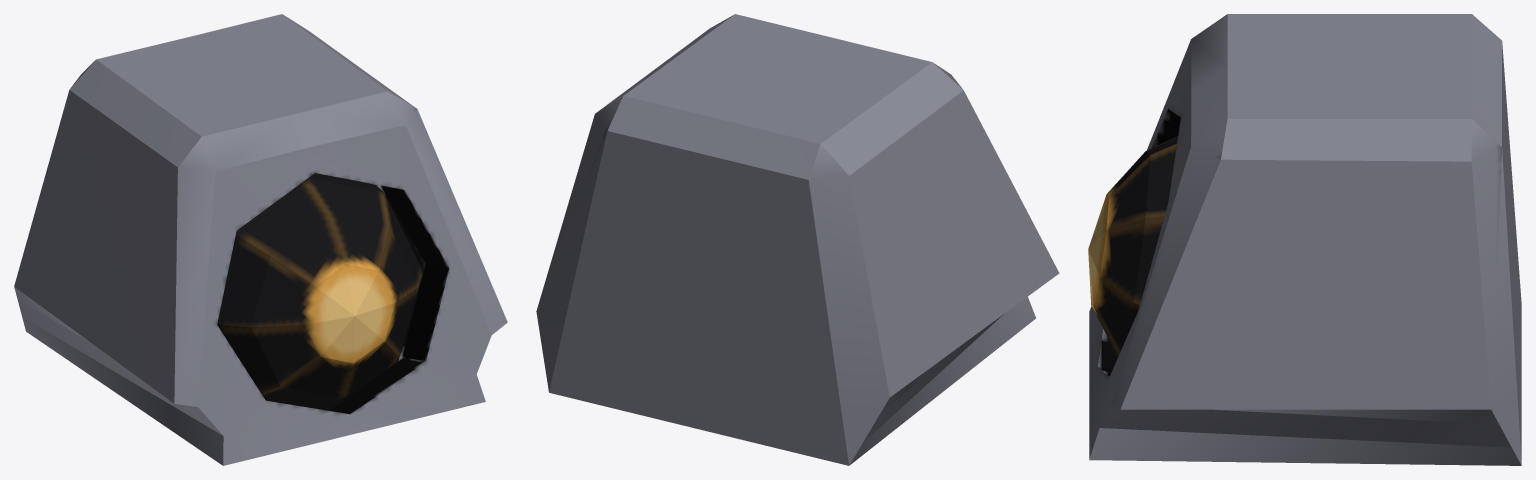
The model's file is BattleshipEnemy_Model_Radar.obj.
3 renders of one model, left to right at view 1: azimuth 30°, elevation 25°; view 2: azimuth 150°, elevation 25°; view 3: azimuth 270°, elevation 25°, orthographic. The views are drawn at different scales.
Parts seen in each view (by area): view 1: Battleship_Radar_Mesh Battleship_Radar_grp; view 2: Battleship_Radar_Mesh Battleship_Radar_grp; view 3: Battleship_Radar_Mesh Battleship_Radar_grp.
Boxes of the visible parts, x1,y1,x2,y2 form: Battleship_Radar_Mesh Battleship_Radar_grp: [14, 14, 507, 465]; Battleship_Radar_Mesh Battleship_Radar_grp: [536, 14, 1059, 465]; Battleship_Radar_Mesh Battleship_Radar_grp: [1088, 14, 1521, 465].
Size of the model in its own units: 65.91 by 56.48 by 64.15.
Materials: 1 (1 with a texture image).
